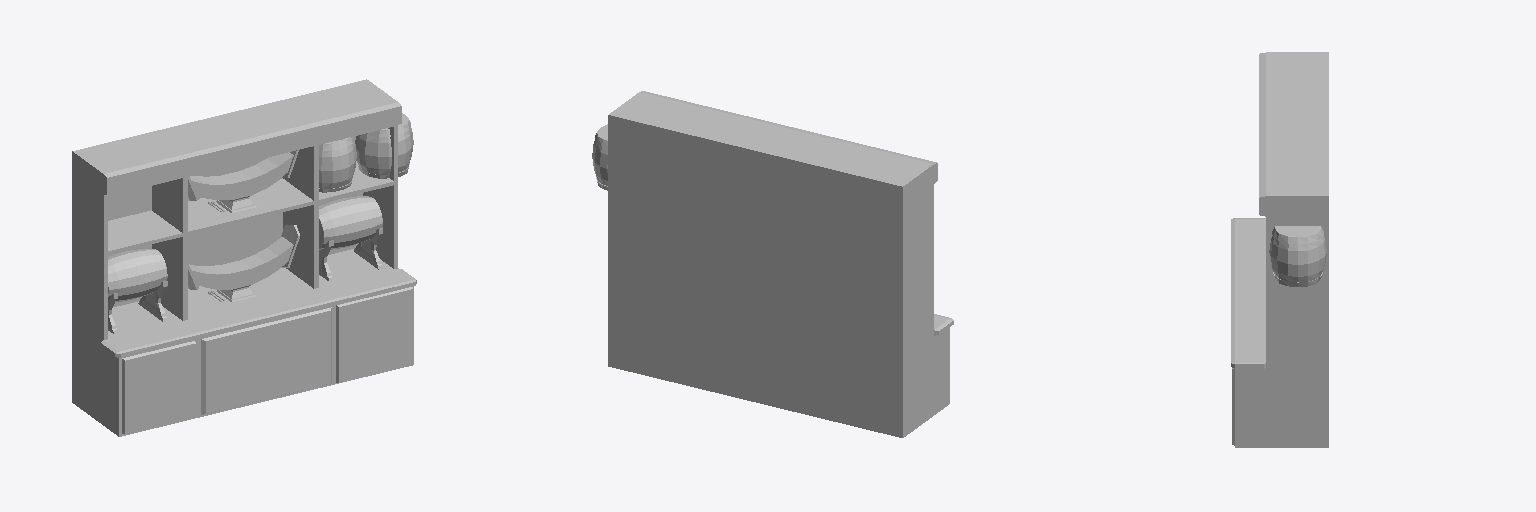
The model's file is Fixed-musical-cabinet.obj.
3 views of the same model, side by side, from view 1: azimuth 30°, elevation 25°; view 2: azimuth 150°, elevation 25°; view 3: azimuth 270°, elevation 25° (orthographic).
Parts seen in each view (by area): view 1: Cube, Klong_that-1.001, _Tapon.001, Ranad, _Tapon, Ranad.001; view 2: Cube, Klong_that-1.001; view 3: Cube, Klong_that-1.001.
Part boxes in pixels (left/top/right/bottom): Cube: left=72, top=79, right=416, bottom=436; Klong_that-1.001: left=319, top=113, right=413, bottom=192; _Tapon.001: left=319, top=196, right=382, bottom=281; Ranad: left=188, top=225, right=299, bottom=301; _Tapon: left=108, top=249, right=167, bottom=333; Ranad.001: left=188, top=150, right=298, bottom=212; Cube: left=608, top=91, right=953, bottom=437; Klong_that-1.001: left=592, top=124, right=607, bottom=190; Cube: left=1231, top=52, right=1328, bottom=447; Klong_that-1.001: left=1269, top=226, right=1326, bottom=286.
Bounding box in the file's own units: 12.08 × 8.9 × 3.12.